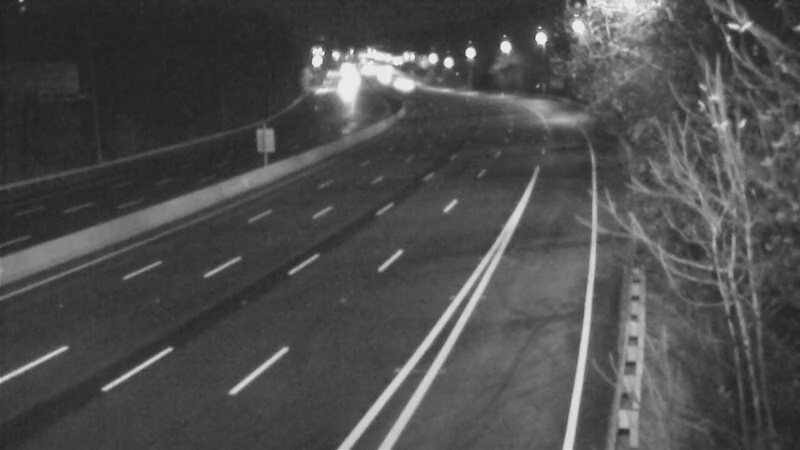vehicle: (372, 58, 422, 108), (381, 60, 431, 110)
